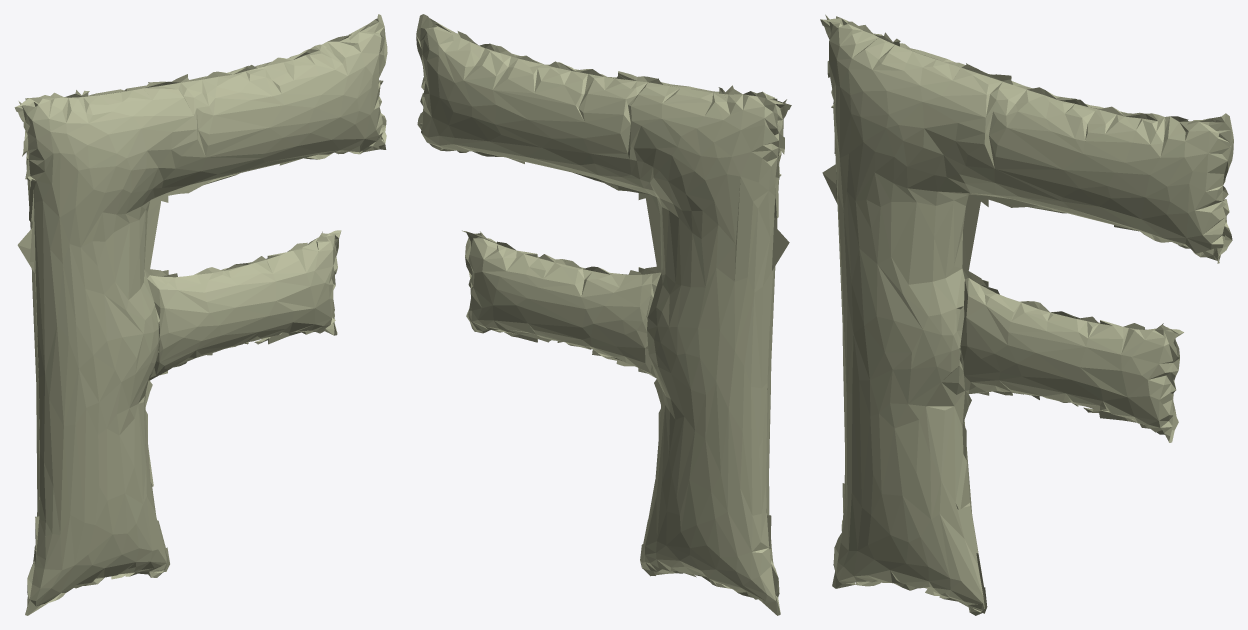
Rendered from tinker.obj.
3 renders of one model, left to right at view 1: azimuth 30°, elevation 25°; view 2: azimuth 150°, elevation 25°; view 3: azimuth 330°, elevation 25°, orthographic. The views are drawn at different scales.
Parts seen in each view (by area): view 1: obj_0; view 2: obj_0; view 3: obj_0.
Part boxes in pixels (<box>): obj_0: <box>14,14,387,615</box>; obj_0: <box>416,14,791,615</box>; obj_0: <box>820,14,1233,615</box>.
Bounding box in the file's own units: 11.72 × 15.53 × 2.24.
